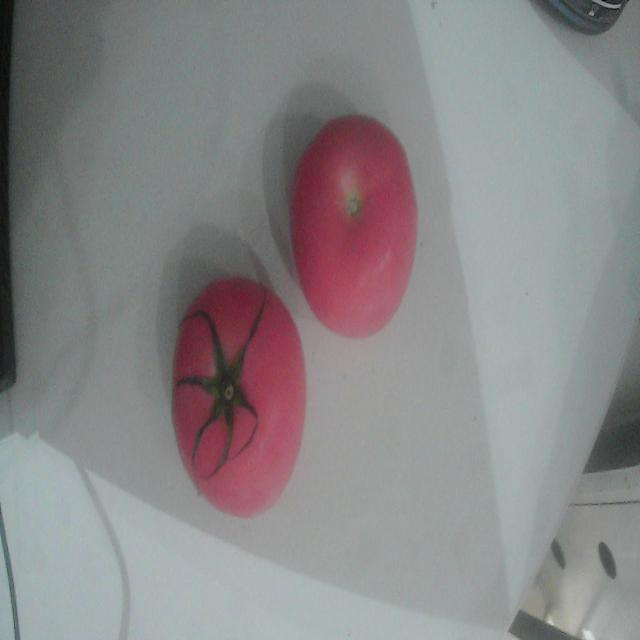Tomato: (173, 279, 306, 516), (290, 115, 417, 338)
